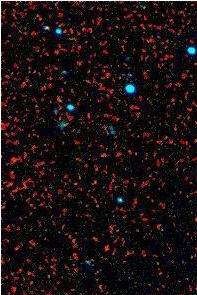star: (45, 84, 75, 114)
